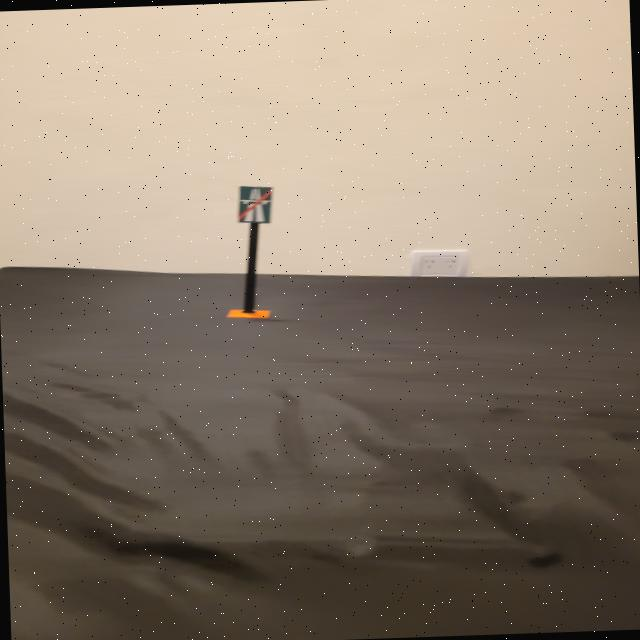highway_exit: (236, 184, 274, 225)
